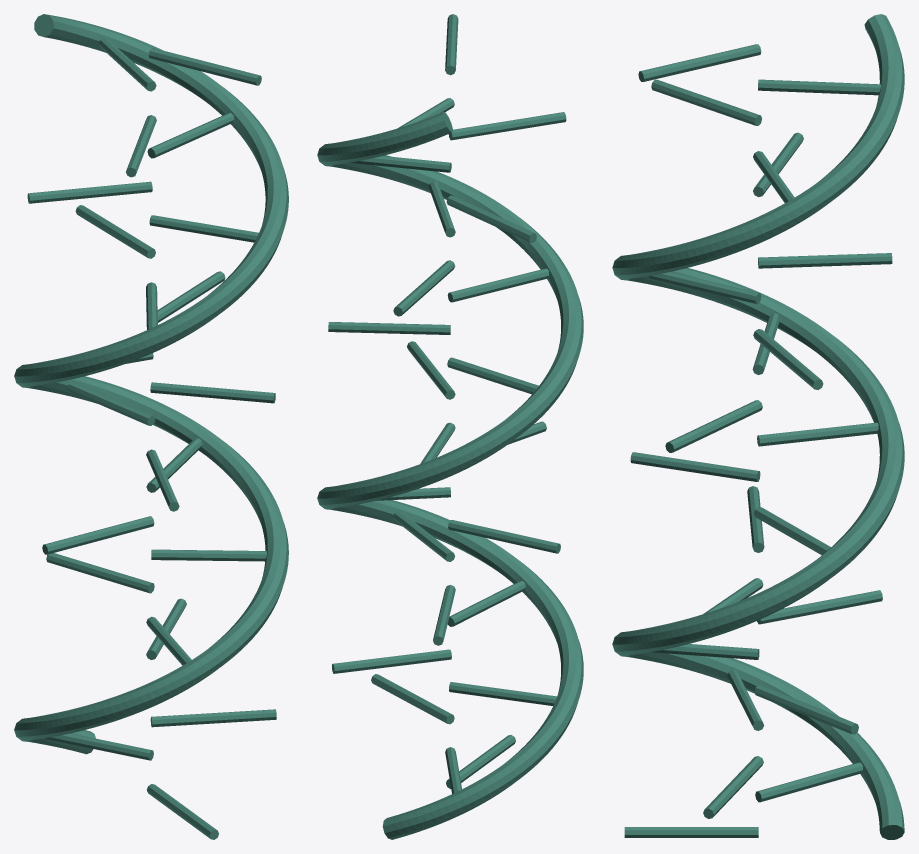
Rendered from biology--helix-teal.glb.
3 renders of one model, left to right at view 1: azimuth 30°, elevation 25°; view 2: azimuth 150°, elevation 25°; view 3: azimuth 270°, elevation 25°, orthographic. The views are drawn at different scales.
Visible parts, largest first — view 1: biology; view 2: biology; view 3: biology.
Boxes of the visible parts, x1,y1,x2,y2 form: biology: (14,14,288,839); biology: (317,14,583,839); biology: (612,14,904,839).
Bounding box in the file's own units: 1.53 × 4.63 × 1.53.
